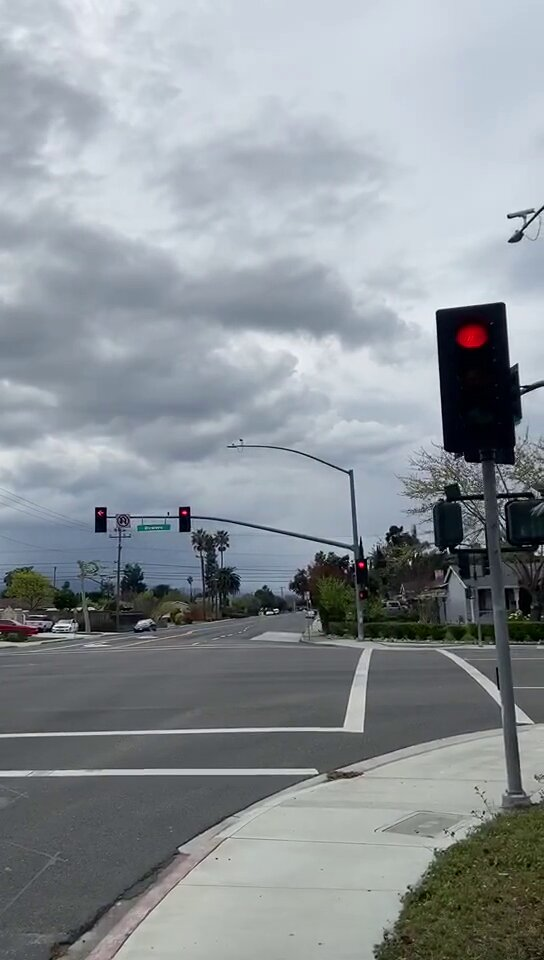red_light: (439, 308, 515, 457), (179, 506, 192, 534), (96, 505, 107, 533), (357, 560, 367, 586)
